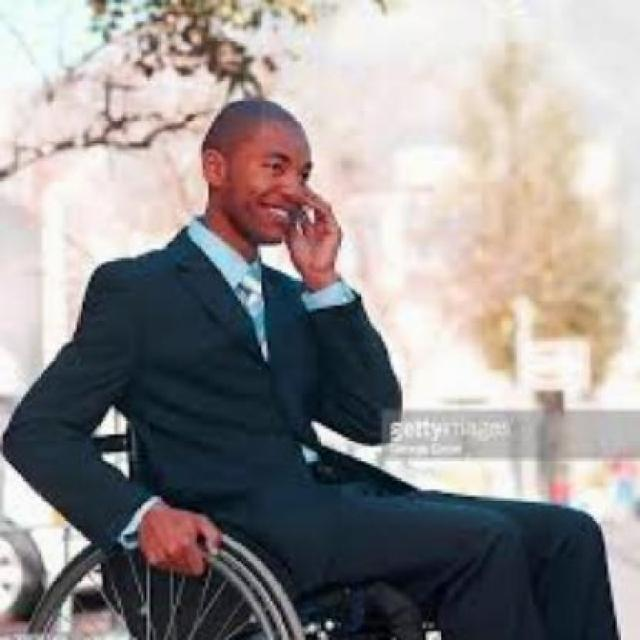wheelchairs: (0, 397, 397, 640)
